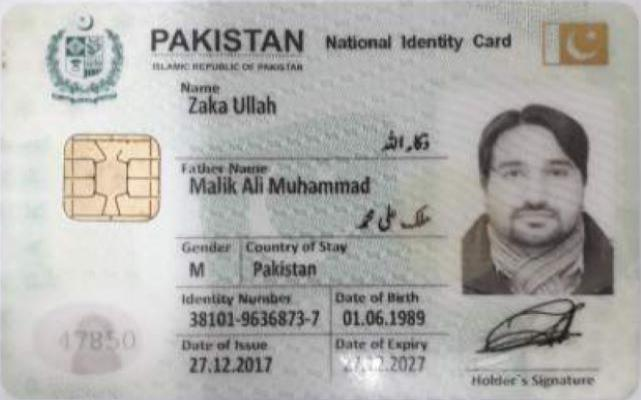fname: (187, 173, 374, 199)
name: (183, 92, 280, 119)
number: (185, 306, 323, 332)
